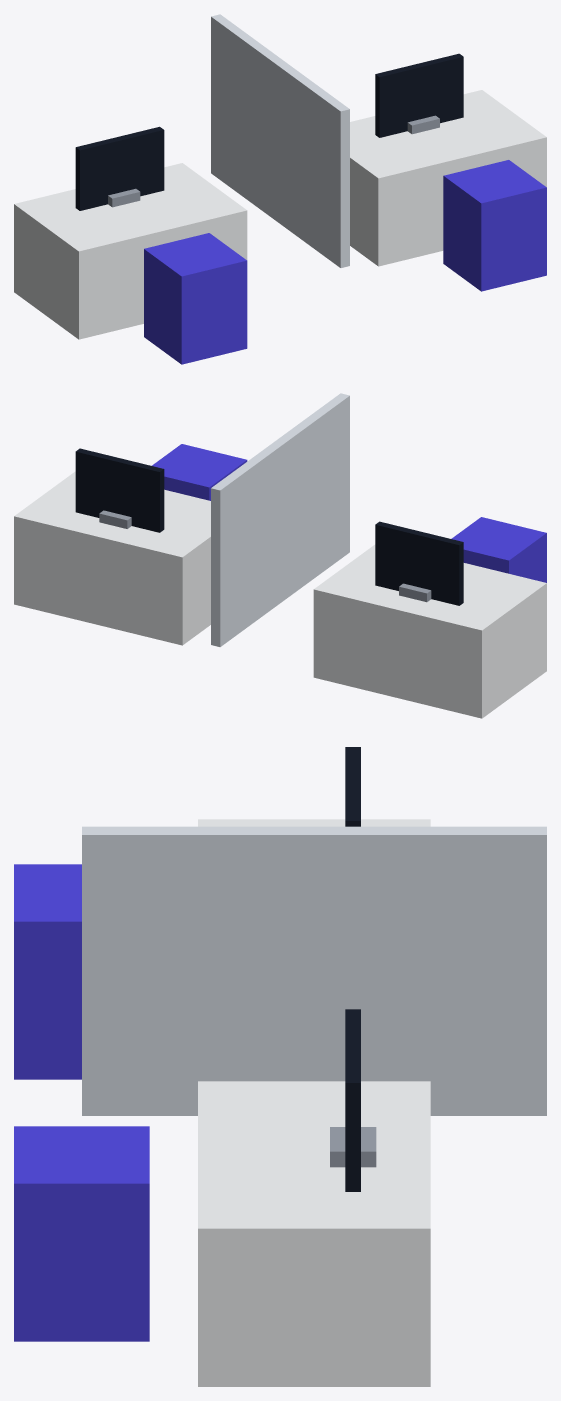
Rendered from job.glb.
3 views of the same model, one above another, from view 1: azimuth 30°, elevation 25°; view 2: azimuth 150°, elevation 25°; view 3: azimuth 270°, elevation 25° (orthographic). The views are drawn at different scales.
Size of what is drawn, in the model's own units: 2.5 by 1 by 1.38.
